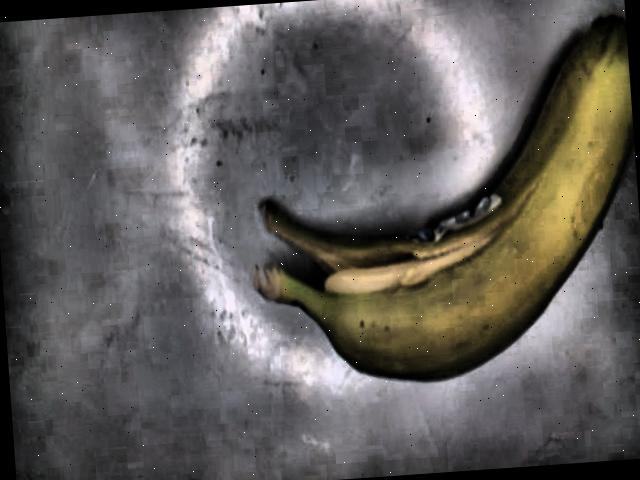Almennt: (254, 13, 634, 384)
